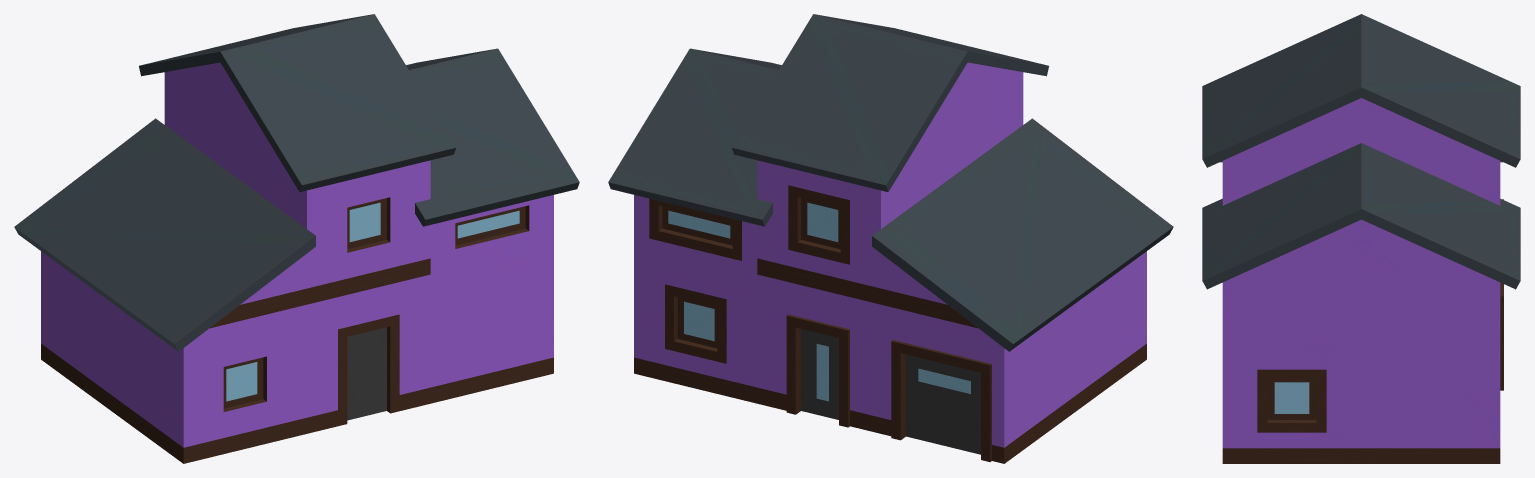
The model's file is house_type14.fbx.
The picture shows the model from 3 angles, left to right: view 1: azimuth 30°, elevation 25°; view 2: azimuth 150°, elevation 25°; view 3: azimuth 270°, elevation 25°; orthographic projection. The views are drawn at different scales.
Visible parts, largest first — view 1: house_type14; view 2: house_type14; view 3: house_type14.
Part boxes in pixels (left/top/right/bottom): house_type14: left=14, top=14, right=579, bottom=463; house_type14: left=608, top=14, right=1173, bottom=463; house_type14: left=1202, top=14, right=1520, bottom=463.
Bounding box in the file's own units: 13.08 × 10.34 × 9.16.
Materials: 1 (1 with a texture image).
